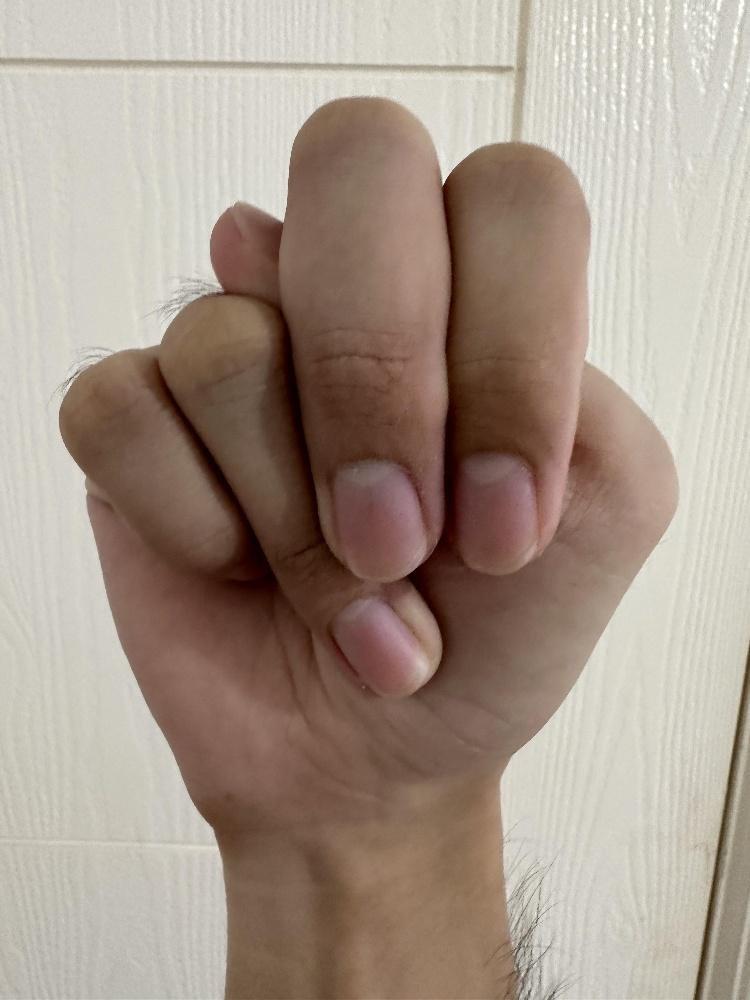n: (55, 88, 683, 835)
